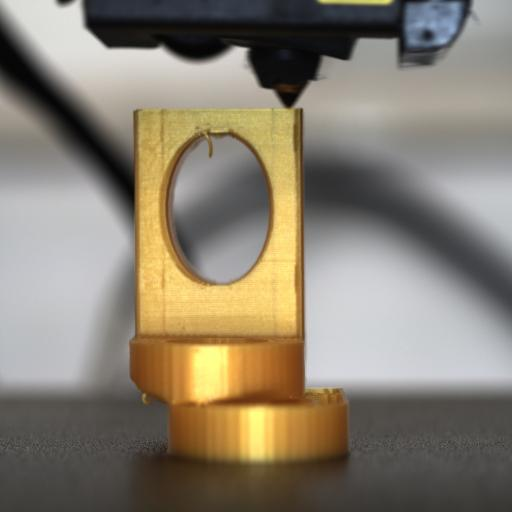layer_shift: (112, 376, 356, 416)
